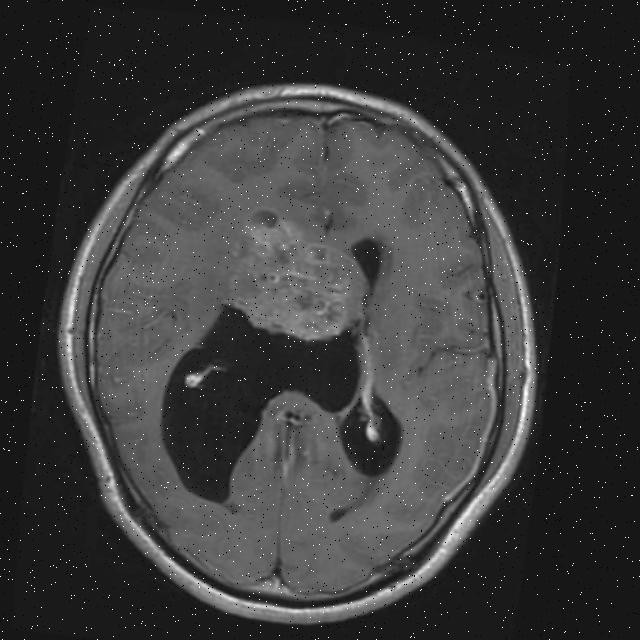Glioma: (220, 204, 363, 346)
